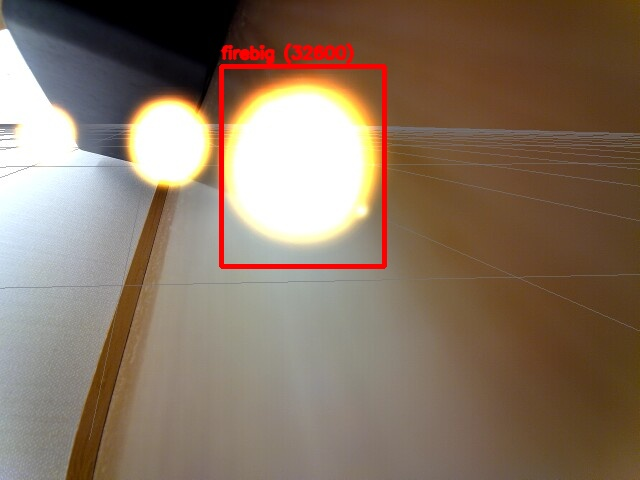firebig: (221, 66, 384, 266)
